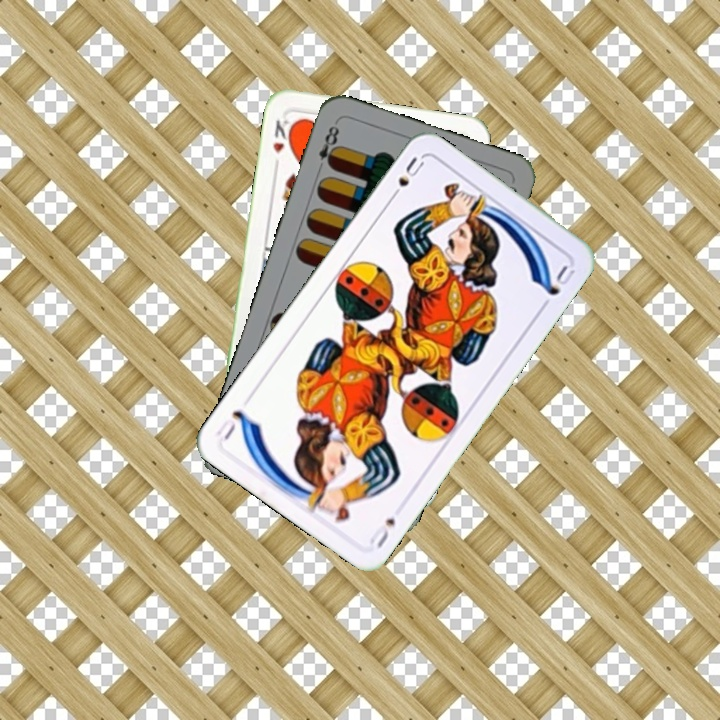E8: (313, 121, 342, 175)
HK: (268, 115, 297, 156)
SU: (384, 152, 427, 204), (365, 514, 398, 551)
